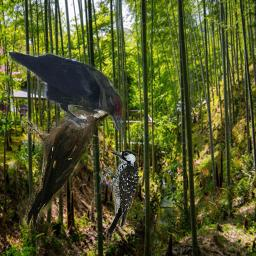Crow: (7, 51, 122, 130)
Woodpecker: (17, 71, 125, 231), (99, 150, 139, 241)
